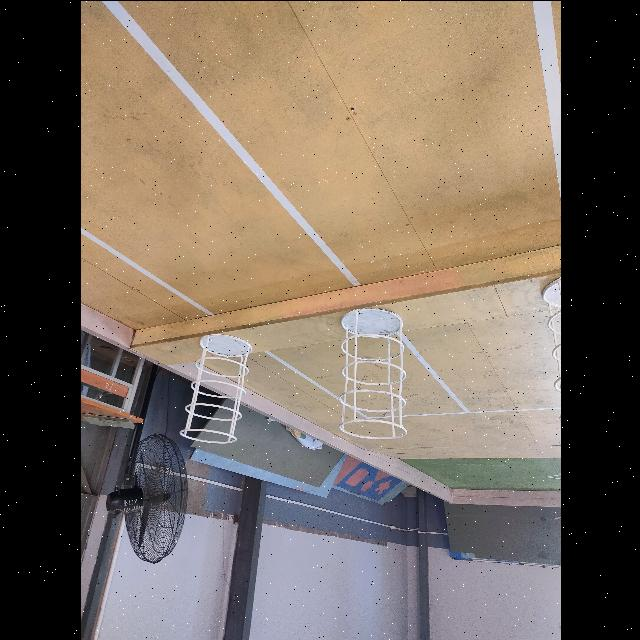S: (338, 306, 407, 440), (178, 332, 252, 444), (540, 275, 560, 421)
